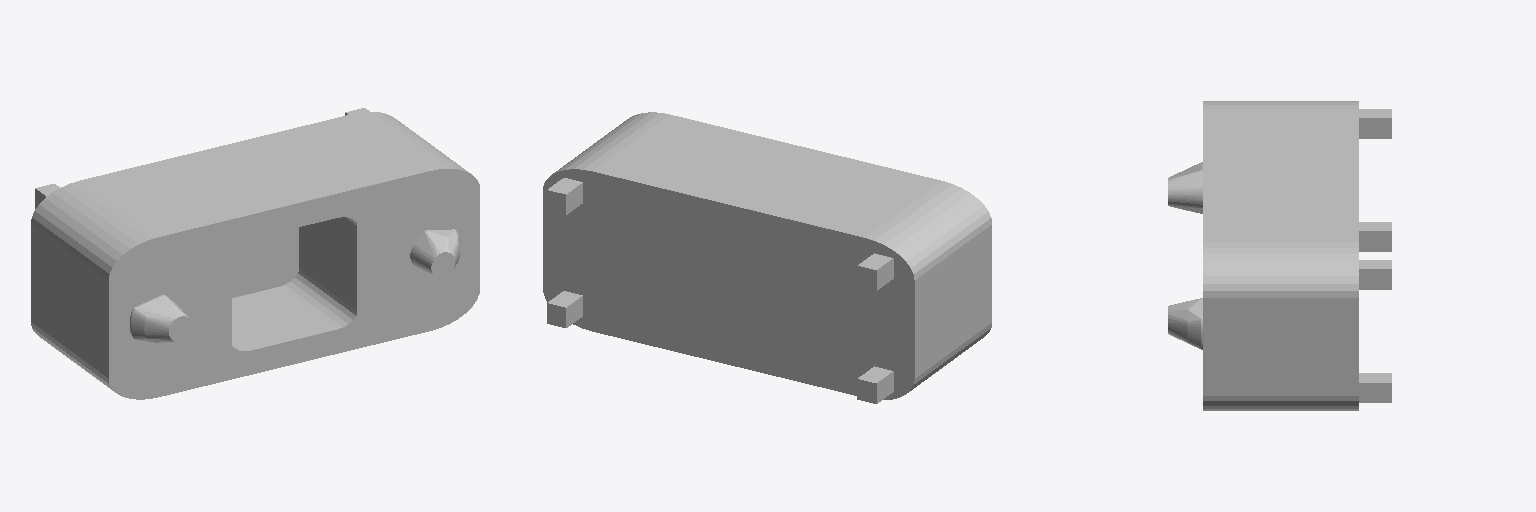
Rendered from mmp_panda_two_arm_base_grocery_collision2.obj.
The picture shows the model from 3 angles: view 1: azimuth 30°, elevation 25°; view 2: azimuth 150°, elevation 25°; view 3: azimuth 270°, elevation 25°; orthographic projection.
Visible parts, largest first — view 1: base_collision.001, Link0, Link0.001; view 2: base_collision.001; view 3: base_collision.001, Link0, Link0.001.
Boxes of the visible parts, x1,y1,x2,y2 form: base_collision.001: [31, 108, 479, 399]; Link0: [130, 295, 192, 342]; Link0.001: [410, 229, 459, 277]; base_collision.001: [543, 112, 991, 403]; base_collision.001: [1203, 101, 1391, 410]; Link0: [1168, 162, 1202, 213]; Link0.001: [1168, 298, 1202, 349].
Size of the model in its own units: 1.7 by 0.7 by 0.89.